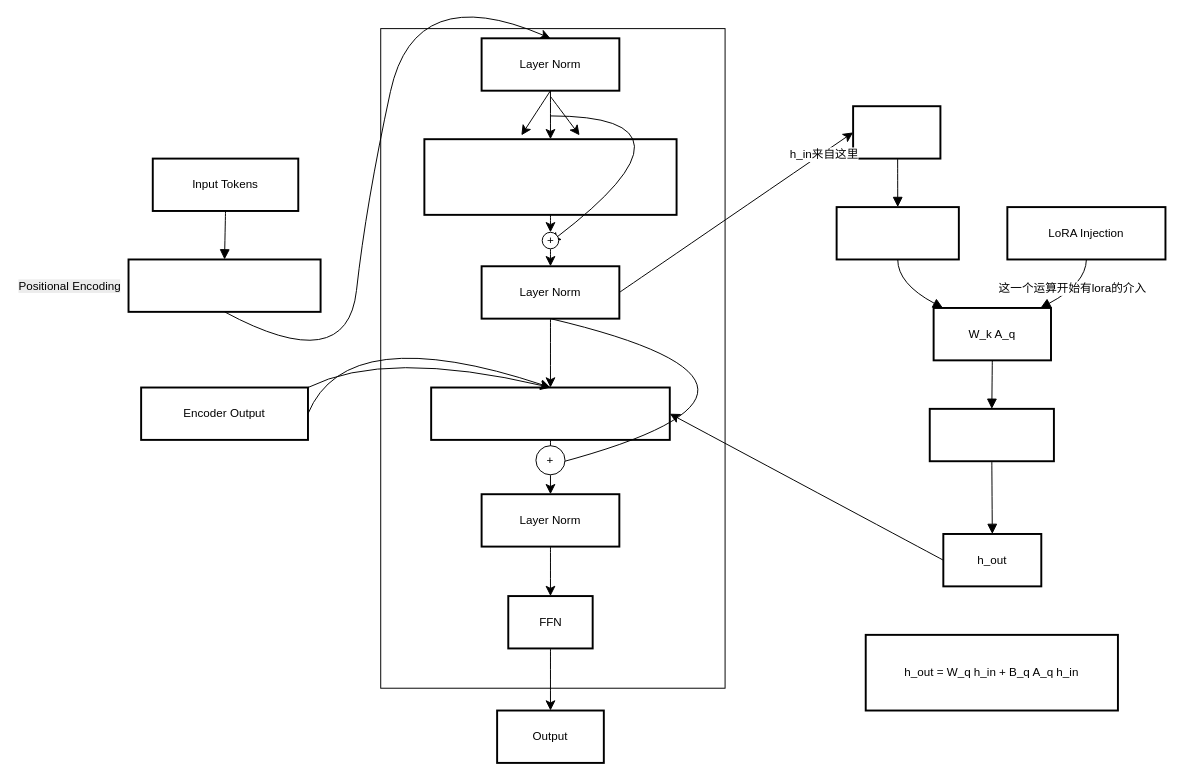
Image size: 1182x781. Some labels were removed from this diagram. The shapes that lost their labels are listed below. From the top down, each one's box as (x1, y1, x2, y2) in pixels, then its label:
(852, 105, 941, 159): h_in
(423, 138, 677, 215): Multi-Head Attention Masked
(835, 206, 959, 260): W_q h_in
(127, 258, 321, 312): PE(pos, 2i) = sin(pos / 10000^(2i/d)) PE(pos, 2i+1) = cos(pos / 10000^(2i/d))
(430, 386, 670, 440): Multi-Head Attention Cross
(928, 407, 1054, 462): Attention
